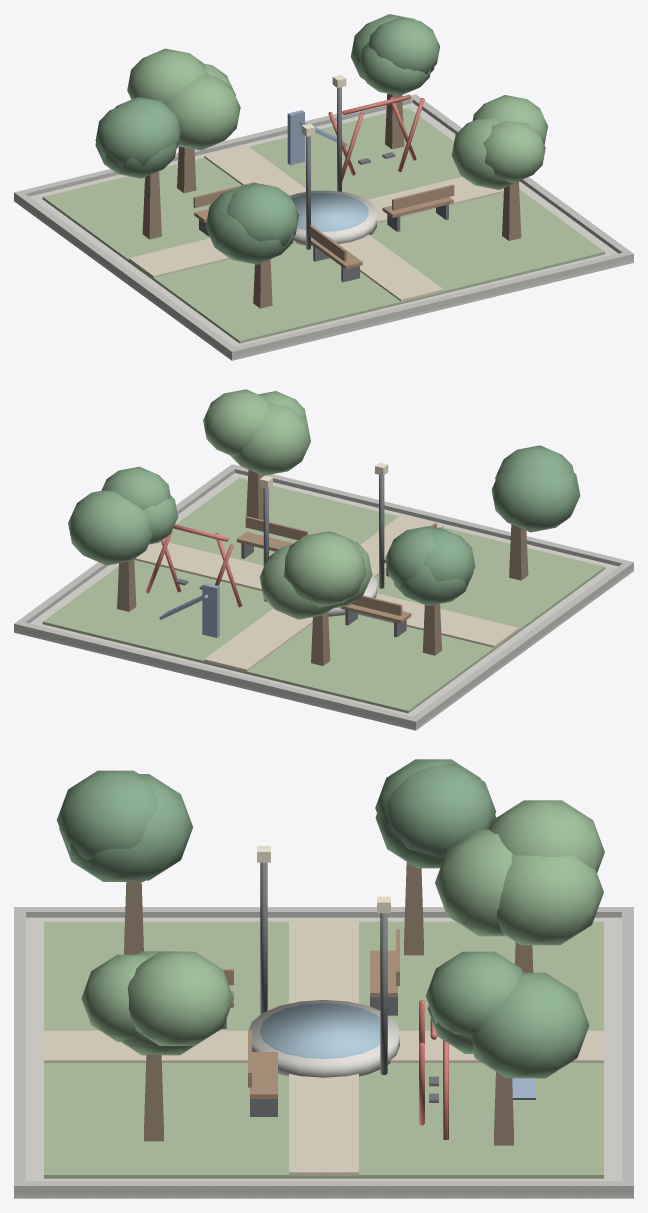
Rendered from mapa.plaza.fbx.
3 renders of one model, top to bottom at view 1: azimuth 30°, elevation 25°; view 2: azimuth 150°, elevation 25°; view 3: azimuth 270°, elevation 25°, orthographic. The views are drawn at different scales.
Visible parts, largest first — view 1: Pasto, Vereda, Camino.001, Solera.001, Copa.010, Camino, Copa.013, Copa.003, Solera.003, Copa.001, Copa.009, Copa.006 (+23 smaller); view 2: Pasto, Vereda, Camino, Copa.009, Copa.008, Solera, Copa.004, Camino.001, Copa, Copa.002, Solera.003, Solera.001 (+21 smaller); view 3: Pasto, Vereda, Camino, Copa.008, Solera.002, Copa.002, Copa.011, Copa.014, Camino.001, Copa.003, Copa.010, Copa.006 (+21 smaller).
Boxes of the visible parts, x1,y1,x2,y2 form: Pasto: [42, 108, 605, 343]; Vereda: [14, 103, 633, 360]; Camino.001: [204, 145, 443, 302]; Solera.001: [227, 251, 633, 358]; Copa.010: [166, 75, 240, 150]; Camino: [129, 176, 503, 277]; Copa.013: [95, 104, 173, 166]; Copa.003: [226, 182, 299, 246]; Solera.003: [14, 191, 237, 357]; Copa.001: [483, 121, 545, 183]; Copa.009: [127, 48, 208, 104]; Copa.006: [368, 17, 439, 73]; Pasto: [42, 477, 605, 713]; Vereda: [14, 473, 633, 730]; Camino: [134, 541, 518, 648]; Copa.009: [284, 531, 366, 607]; Copa.008: [68, 490, 152, 565]; Solera: [14, 620, 418, 727]; Copa.004: [491, 466, 579, 532]; Camino.001: [204, 515, 443, 671]; Copa: [230, 402, 310, 475]; Copa.002: [203, 389, 270, 456]; Solera.003: [411, 560, 633, 727]; Solera.001: [228, 464, 633, 568]; Pasto: [44, 921, 603, 1178]; Vereda: [14, 917, 633, 1198]; Camino: [289, 918, 358, 1175]; Copa.008: [471, 972, 589, 1078]; Solera.002: [14, 1181, 633, 1194]; Copa.002: [127, 951, 233, 1045]; Copa.011: [496, 854, 603, 945]; Copa.014: [387, 764, 495, 856]; Camino.001: [44, 1030, 603, 1062]; Copa.003: [57, 770, 157, 859]; Copa.010: [435, 829, 512, 936]; Copa.006: [425, 951, 523, 1036].
Bounding box in the file's own units: 3.3 × 1.11 × 3.1.
